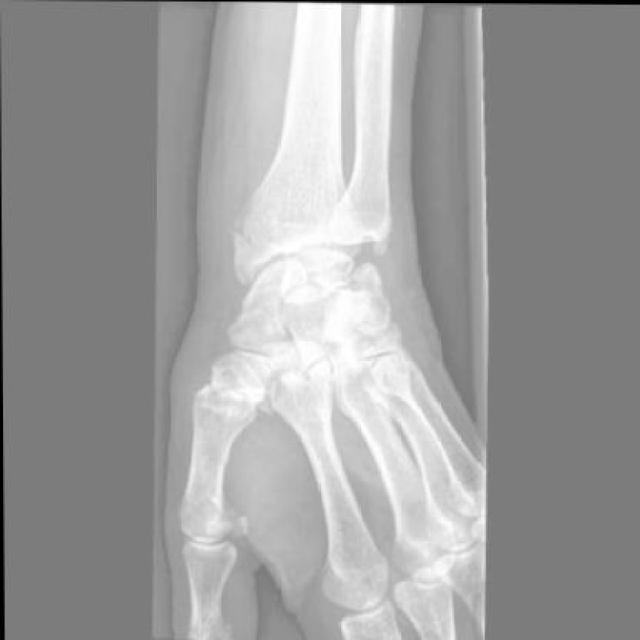Fracture: (226, 205, 310, 286), (326, 262, 387, 310)
